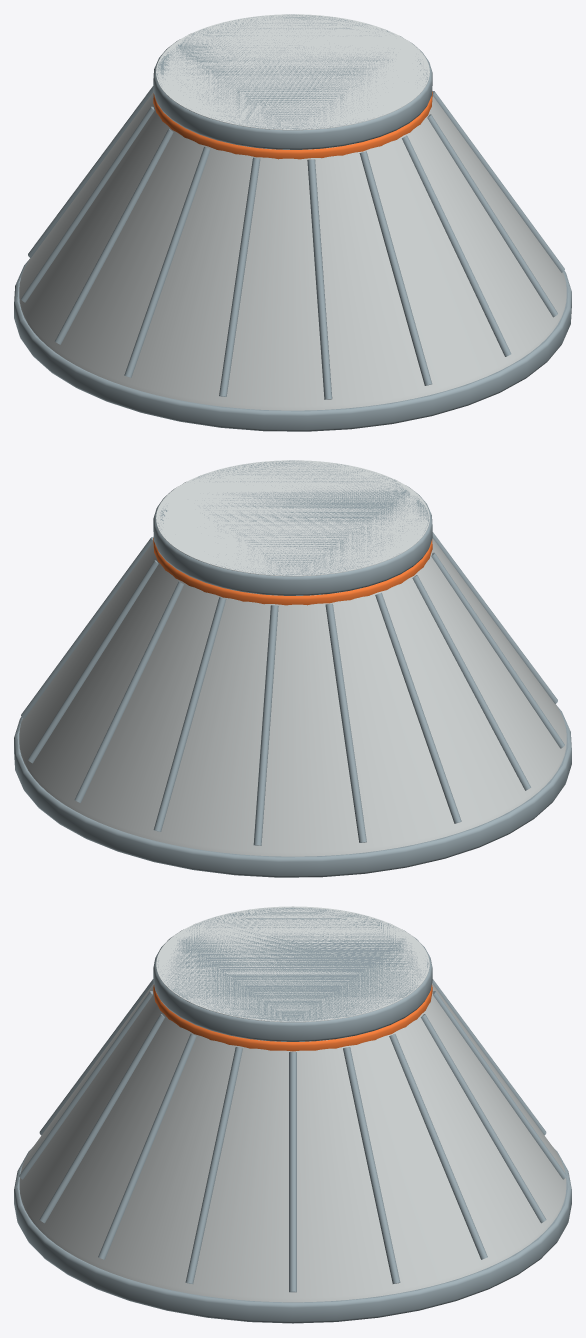
Rendered from adapterSmall.glb.
The picture shows the model from 3 angles, top to bottom: view 1: azimuth 30°, elevation 25°; view 2: azimuth 150°, elevation 25°; view 3: azimuth 270°, elevation 25°; orthographic projection.
Visible parts, largest first — view 1: Conical load bearing shell; view 2: Conical load bearing shell; view 3: Conical load bearing shell.
Boxes of the visible parts, x1=… form: Conical load bearing shell: x1=14, y1=14, x2=571, y2=431; Conical load bearing shell: x1=14, y1=460, x2=571, y2=877; Conical load bearing shell: x1=14, y1=906, x2=571, y2=1323.
Size of the model in its own units: 1.25 by 0.6 by 1.25.
